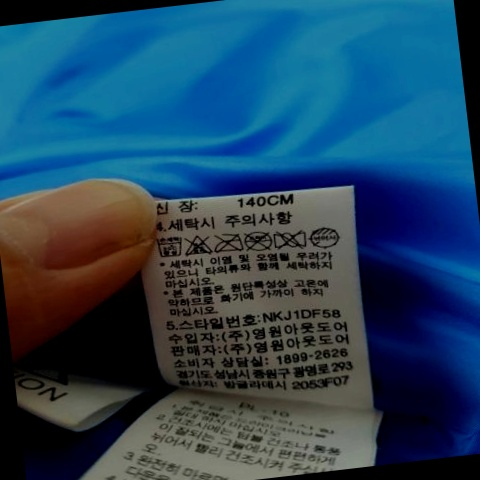30C: (154, 232, 186, 264)
DN_dry_clean: (242, 225, 278, 255)
DN_iron: (209, 224, 248, 256)
DN_wring: (273, 224, 311, 253)
dry_flat_in_shade: (308, 220, 346, 251)
non_chlorine_bleach: (182, 227, 217, 262)
